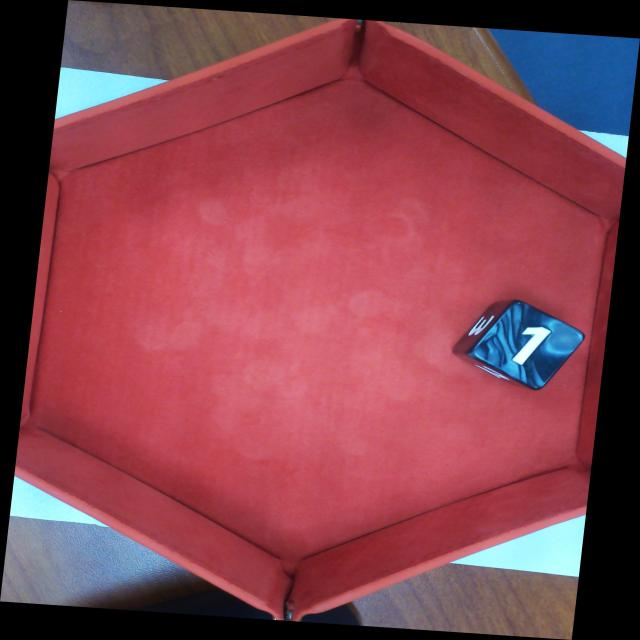dice: (463, 295, 591, 394)
